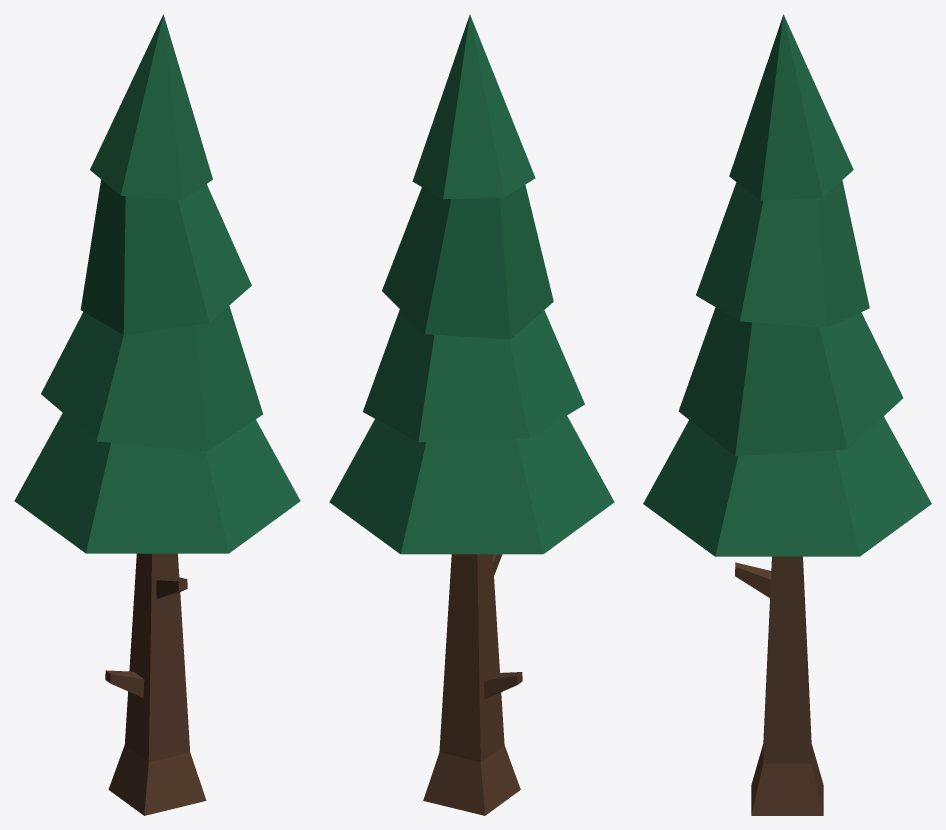
Rendered from halo_tree_pinetallc_detailed.obj.
The picture shows the model from 3 angles, left to right: view 1: azimuth 30°, elevation 25°; view 2: azimuth 150°, elevation 25°; view 3: azimuth 270°, elevation 25°; orthographic projection.
Parts seen in each view (by area): view 1: tree_pineTallC_detailed; view 2: tree_pineTallC_detailed; view 3: tree_pineTallC_detailed.
Boxes of the visible parts, x1,y1,x2,y2 form: tree_pineTallC_detailed: [14, 14, 300, 815]; tree_pineTallC_detailed: [329, 14, 614, 815]; tree_pineTallC_detailed: [643, 14, 931, 815].
Size of the model in its own units: 0.4804 by 1.67 by 0.5547.
